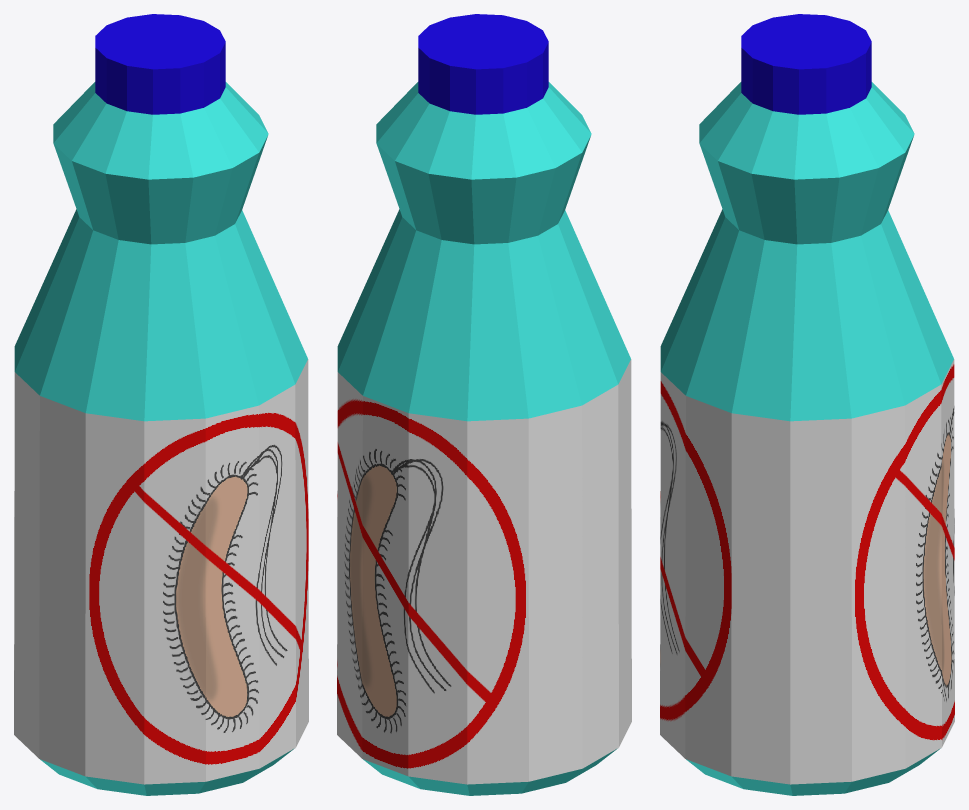
File: cloroxPrototype.fbx
3 renders of one model, left to right at view 1: azimuth 30°, elevation 25°; view 2: azimuth 150°, elevation 25°; view 3: azimuth 270°, elevation 25°, orthographic.
Parts seen in each view (by area): view 1: Cylinder; view 2: Cylinder; view 3: Cylinder.
Boxes of the visible parts, x1=… form: Cylinder: x1=14, y1=14, x2=308, y2=795; Cylinder: x1=337, y1=14, x2=631, y2=795; Cylinder: x1=660, y1=14, x2=954, y2=795.
Size of the model in its own units: 437 by 1142 by 435.
